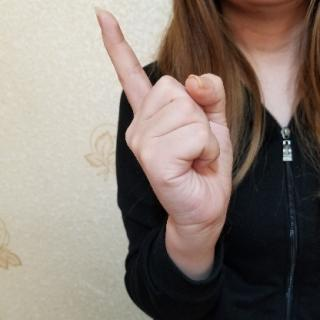RAA: (83, 1, 244, 258)
